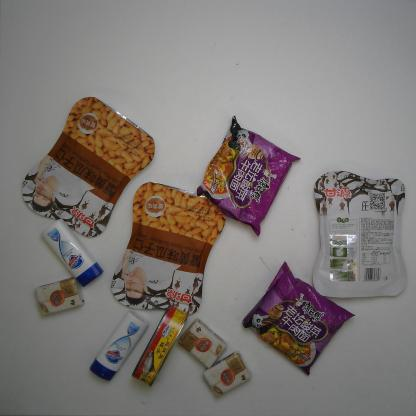Canned Food: (128, 304, 192, 388)
Dried Fruit: (20, 95, 157, 240), (107, 178, 229, 314), (312, 170, 408, 297)
Instant Noodles: (193, 112, 304, 241), (238, 259, 357, 378)
Personal Hygiene: (38, 218, 104, 288), (87, 310, 150, 382)
Tissue: (199, 349, 256, 399), (178, 317, 232, 369), (34, 274, 87, 320)
